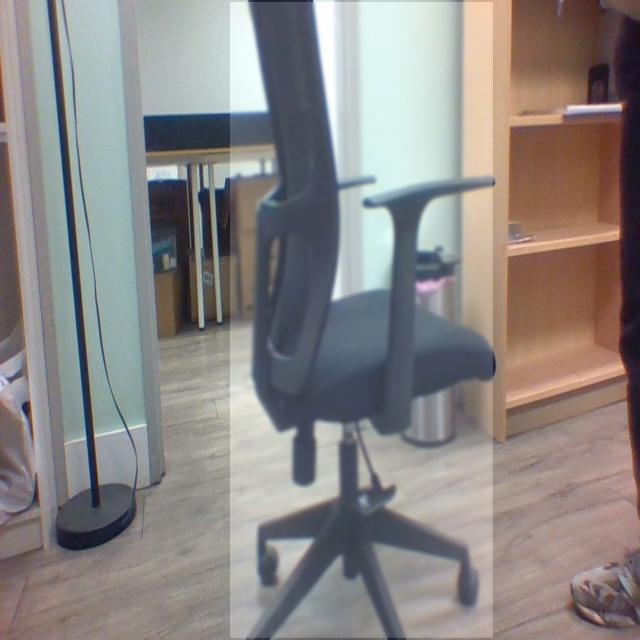black-chair: (230, 2, 494, 639)
